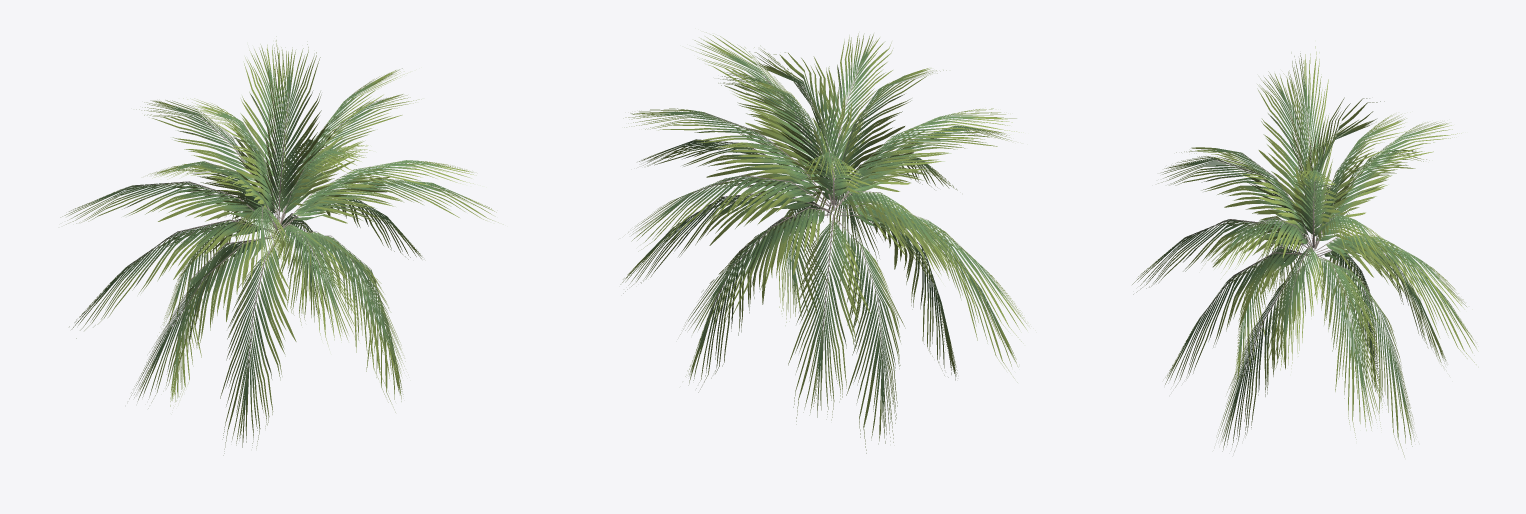
File: m_palm_p2_5_leaf_0.glb
3 views of the same model, side by side, from view 1: azimuth 30°, elevation 25°; view 2: azimuth 150°, elevation 25°; view 3: azimuth 270°, elevation 25° (orthographic). The views are drawn at different scales.
Parts seen in each view (by area): view 1: M_Palm_P2_5_Leaf_0; view 2: M_Palm_P2_5_Leaf_0; view 3: M_Palm_P2_5_Leaf_0.
Boxes of the visible parts, x1,y1,x2,y2 form: M_Palm_P2_5_Leaf_0: (60,36,503,455); M_Palm_P2_5_Leaf_0: (620,32,1027,453); M_Palm_P2_5_Leaf_0: (1132,46,1478,457).
Size of the model in its own units: 4.16 by 3.27 by 3.07.
1 material, 1 textured.
